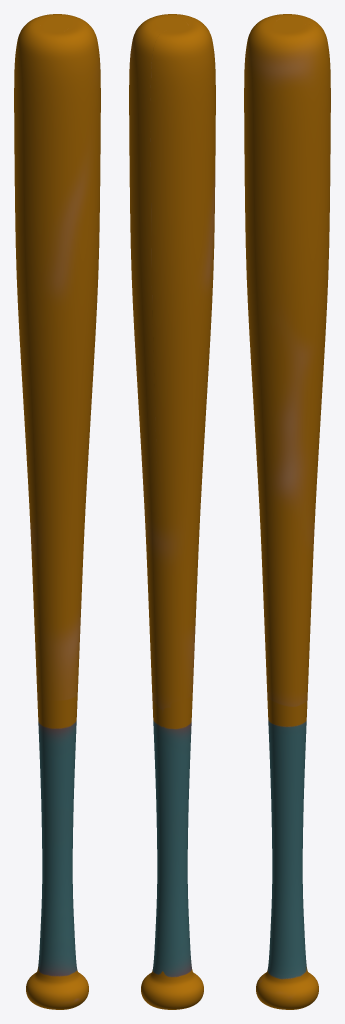
File: Weapon_Bad.fbx
3 renders of one model, left to right at view 1: azimuth 90°, elevation 25°; view 2: azimuth 150°, elevation 25°; view 3: azimuth 270°, elevation 25°, orthographic.
Parts seen in each view (by area): view 1: _Baseball_bat_v1_max2011_iteration_2:_Baseball_bat_v1_max8; view 2: _Baseball_bat_v1_max2011_iteration_2:_Baseball_bat_v1_max8; view 3: _Baseball_bat_v1_max2011_iteration_2:_Baseball_bat_v1_max8.
Boxes of the visible parts, box(x1,y1,x2,y2) form: _Baseball_bat_v1_max2011_iteration_2:_Baseball_bat_v1_max8: box(14, 14, 100, 1009); _Baseball_bat_v1_max2011_iteration_2:_Baseball_bat_v1_max8: box(129, 14, 215, 1009); _Baseball_bat_v1_max2011_iteration_2:_Baseball_bat_v1_max8: box(244, 14, 330, 1009).
Bounding box in the file's own units: 8.19 × 102 × 8.19.
Materials: 1 (1 with a texture image).
